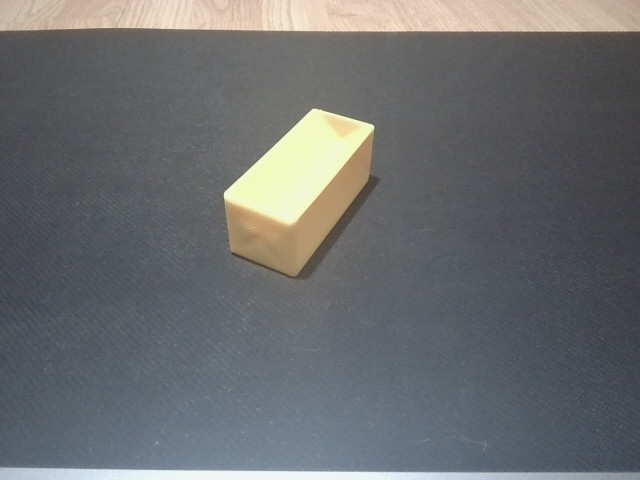YellowSample: (219, 103, 377, 283)
